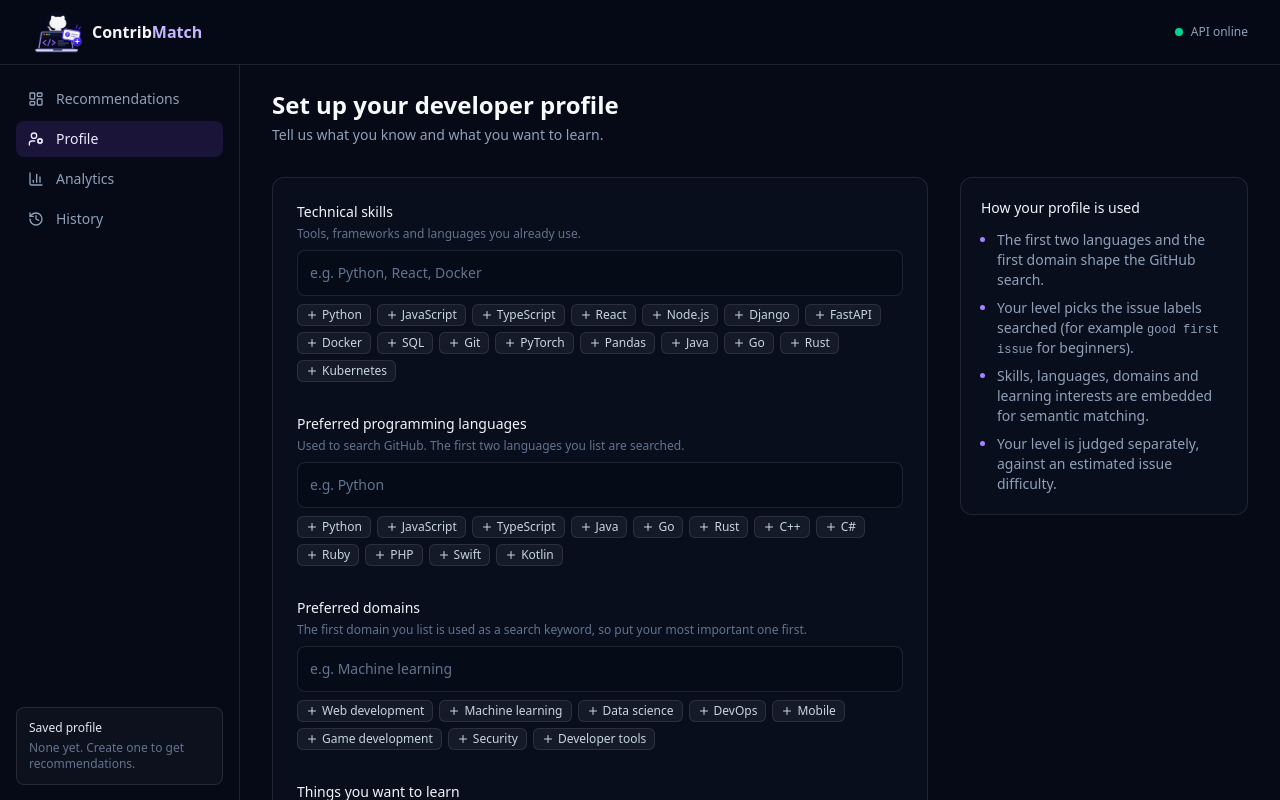
Test: Profile setup › shows backend validation errors next to the field
The width and height of the screenshot is (1280, 800).
In the field labelled "Technical skills": (600, 273) x1=306 y1=259 x2=894 y2=287, type "Python"
Then press Enter
(page scrolled)
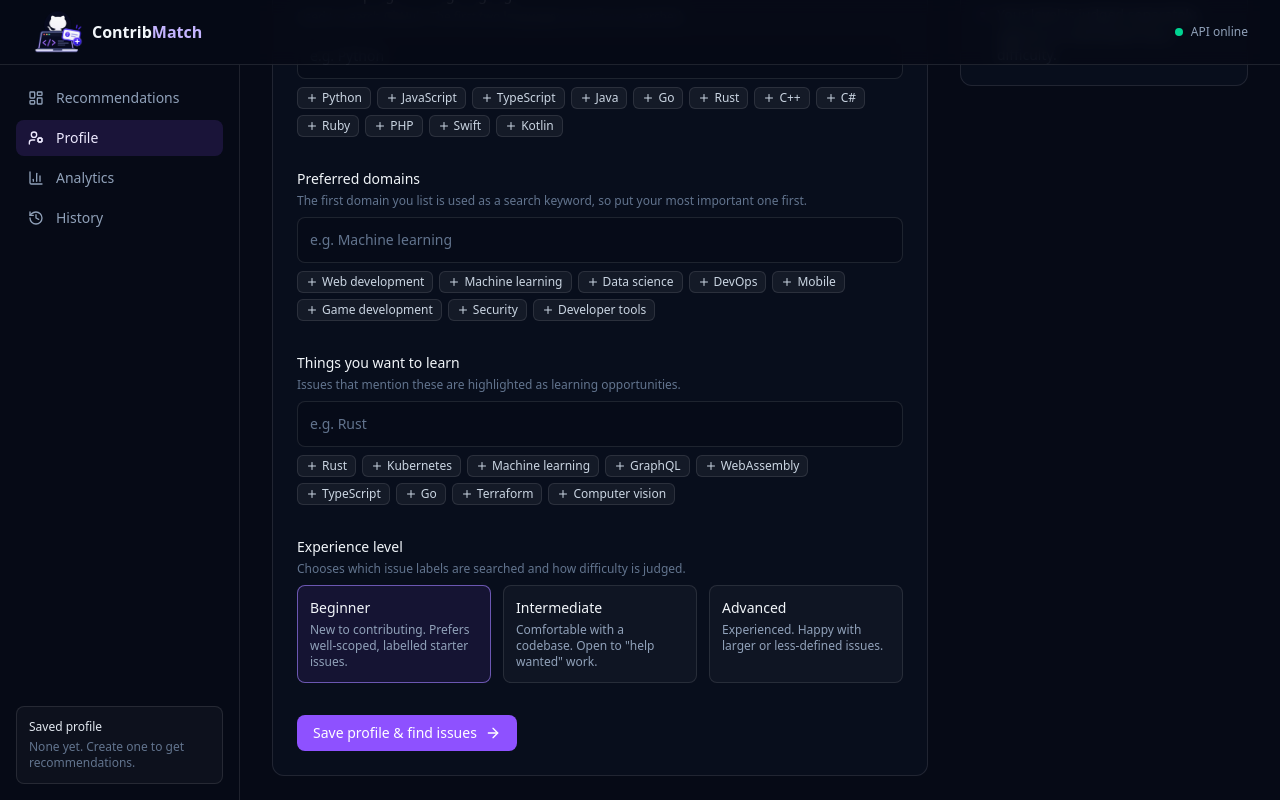
Click the button "Save profile & find issues": (407, 733) x1=297 y1=715 x2=517 y2=751
(page scrolled)
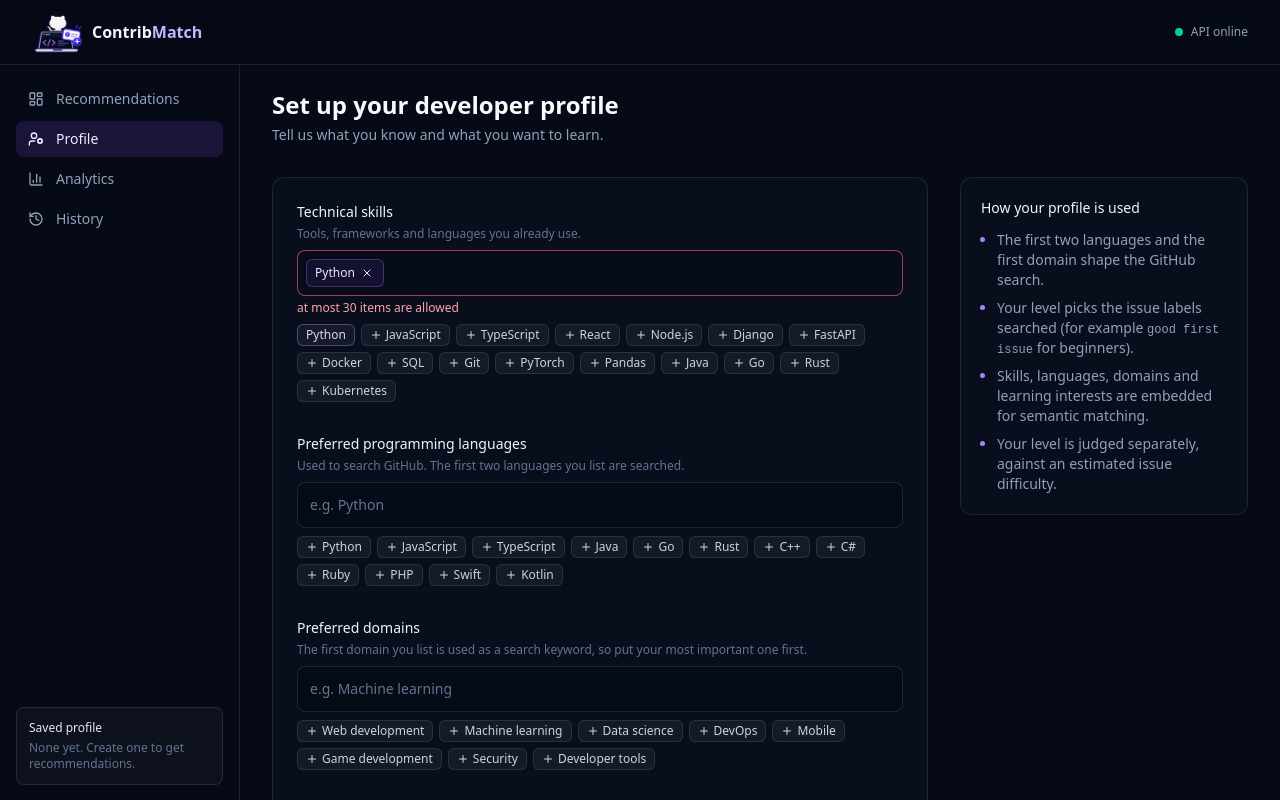
Result: the text "at most 30 items are allowed" is shown at x1=297 y1=299 x2=459 y2=316
